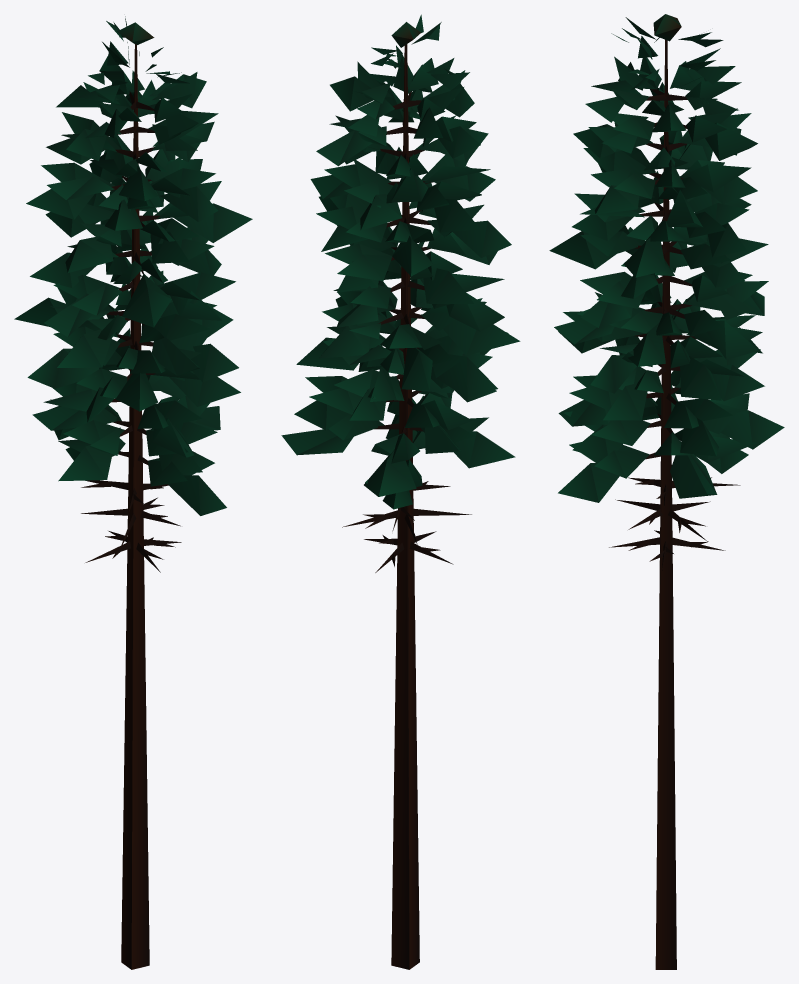
The model's file is pine-lod2.glb.
The picture shows the model from 3 angles, left to right: view 1: azimuth 30°, elevation 25°; view 2: azimuth 150°, elevation 25°; view 3: azimuth 270°, elevation 25°; orthographic projection.
Parts seen in each view (by area): view 1: tree; view 2: tree; view 3: tree.
Boxes of the visible parts, x1,y1,x2,y2 form: tree: (14,16,252,969); tree: (281,14,520,969); tree: (549,14,784,969).
Size of the model in its own units: 4.53 by 19.93 by 4.47.
